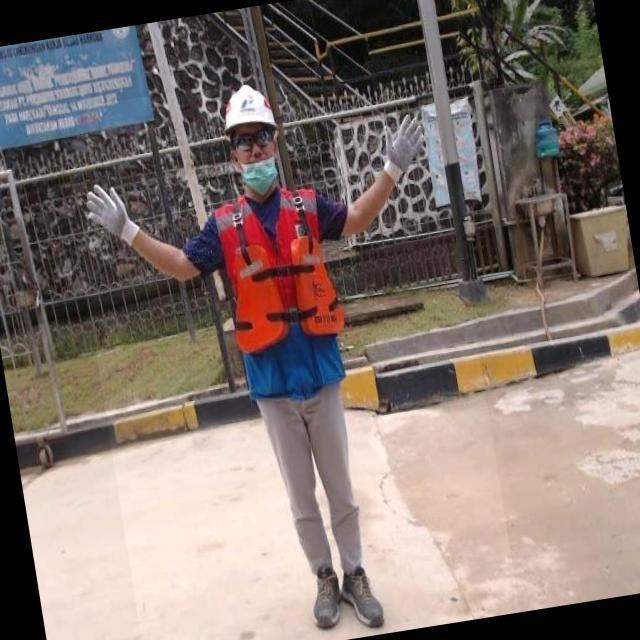Helmet: (219, 82, 278, 135)
Human: (58, 51, 520, 640)
Safety Boot: (338, 564, 389, 634), (306, 563, 350, 633)
Safety Vest: (212, 180, 357, 399)
